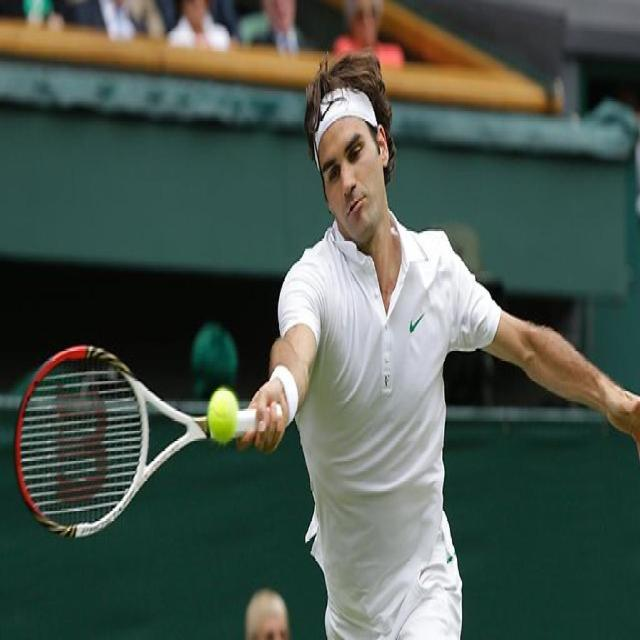Face: (315, 107, 393, 240)
